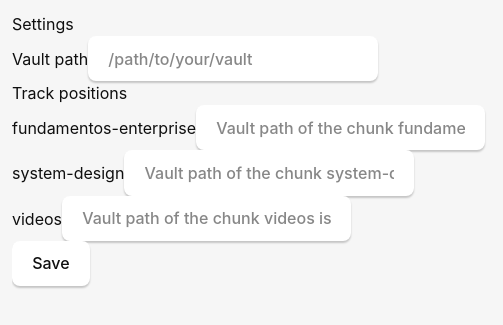
Scenario: Settings screen › saves the vault path and a position override via set_settings
Type "/vault" into the field labelled "Vault path" at (233, 59), box x1=88 y1=36 x2=378 y2=81
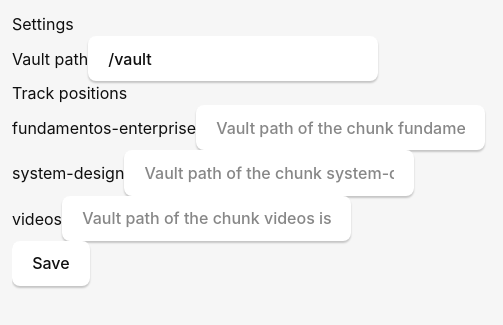
Replace the text in the field labelled "fundamentos-enterprise" with "courses/fundamentos-enterprise/classes/class-005.md" at (341, 128), box x1=196 y1=105 x2=485 y2=150
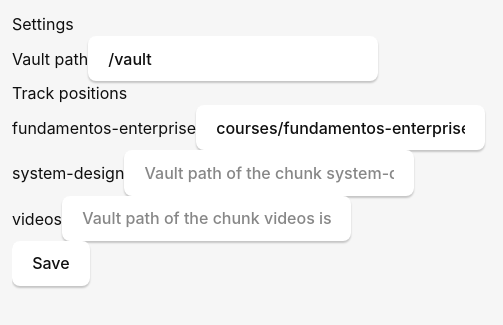
Click the button "Save" at (51, 263), box x1=12 y1=241 x2=90 y2=286
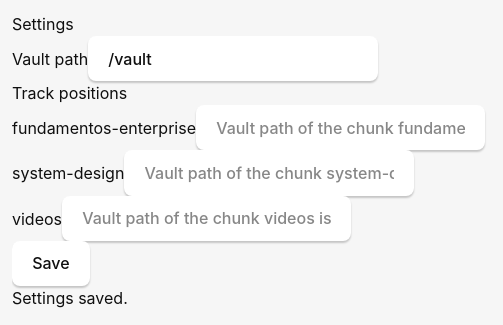
Now the message reads "Settings saved.", box x1=12 y1=288 x2=128 y2=308
